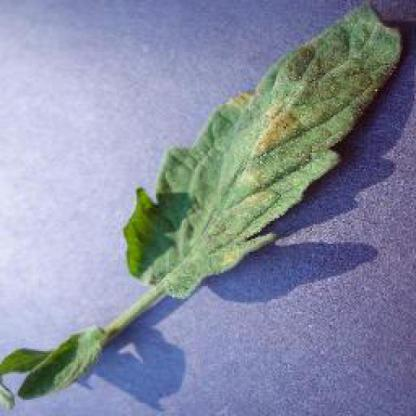Tomato_Leaf_Mold: (123, 6, 402, 296)
